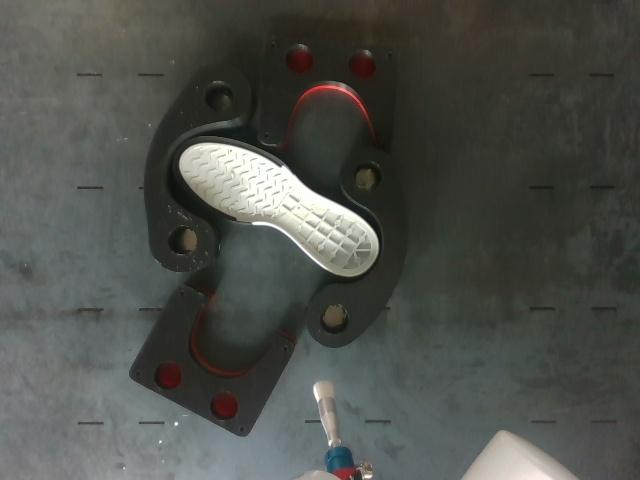shoes: (173, 136, 378, 275)
